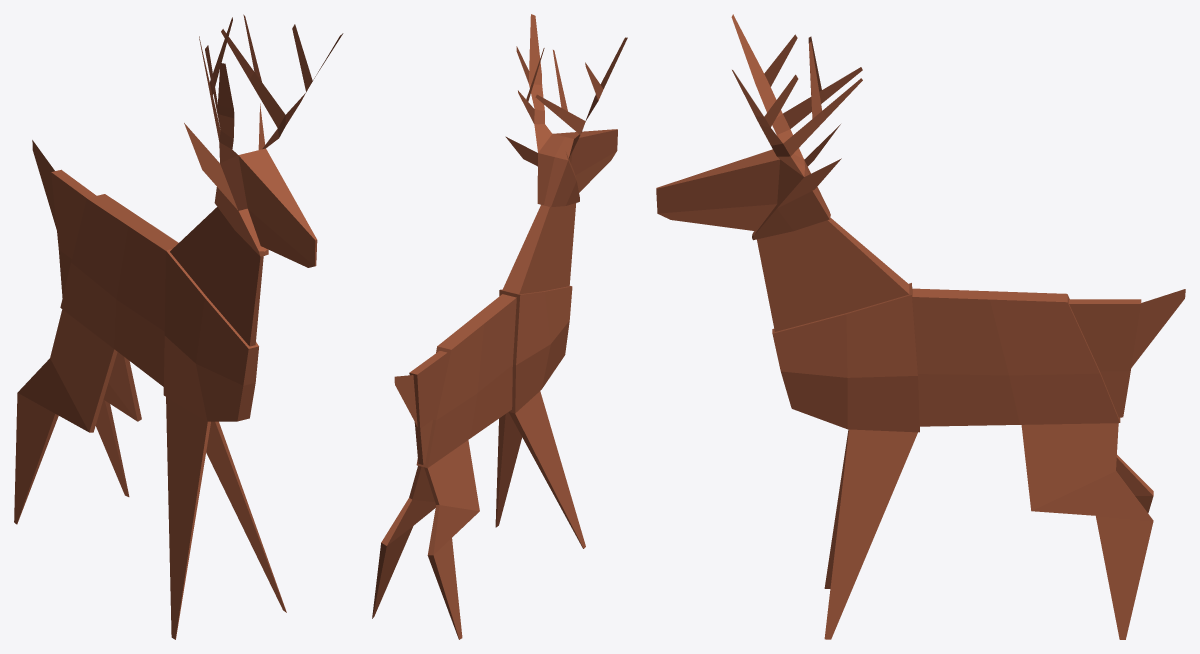
Rendered from DEAR.fbx.
3 views of the same model, side by side, from view 1: azimuth 30°, elevation 25°; view 2: azimuth 150°, elevation 25°; view 3: azimuth 270°, elevation 25° (orthographic). The views are drawn at different scales.
Visible parts, largest first — view 1: CERF.001; view 2: CERF.001; view 3: CERF.001.
Boxes of the visible parts, left/top/right/bottom form: CERF.001: left=14, top=14, right=343, bottom=639; CERF.001: left=372, top=14, right=627, bottom=639; CERF.001: left=656, top=14, right=1185, bottom=639.
Size of the model in its own units: 79.16 by 378 by 315.
